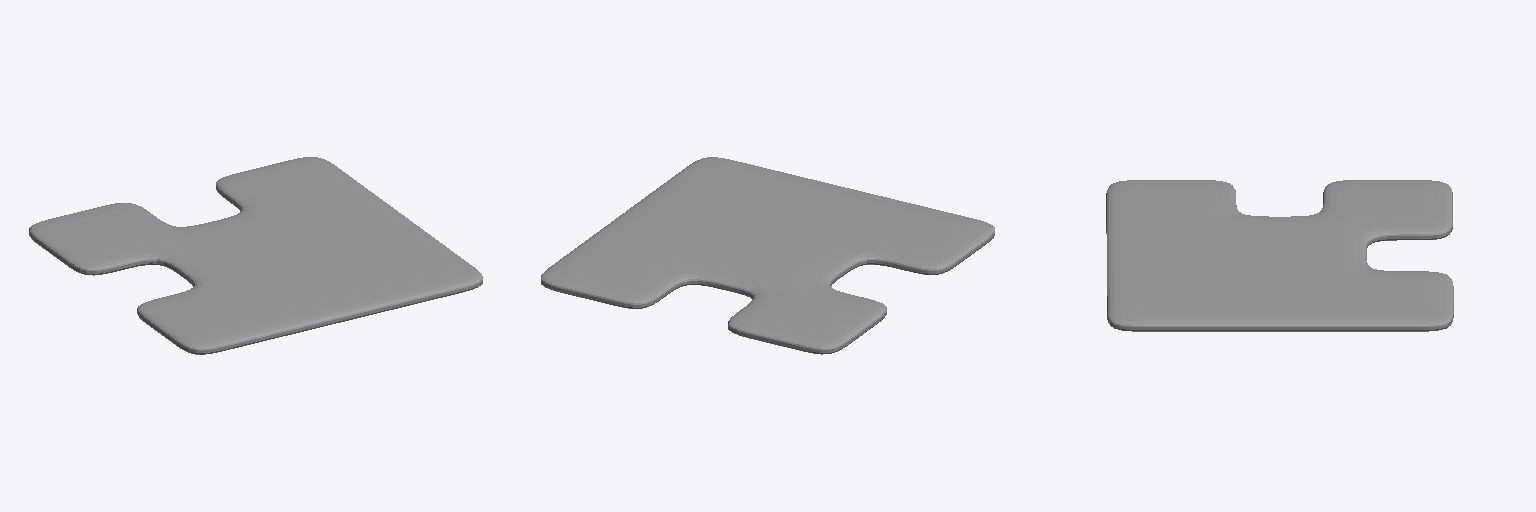
3 views of the same model, side by side, from view 1: azimuth 30°, elevation 25°; view 2: azimuth 150°, elevation 25°; view 3: azimuth 270°, elevation 25° (orthographic).
Visible parts, largest first — view 1: Puzzle.021_Puzzle.021_GoldenEggMaterial.001; view 2: Puzzle.021_Puzzle.021_GoldenEggMaterial.001; view 3: Puzzle.021_Puzzle.021_GoldenEggMaterial.001.
Part boxes in pixels (bbox=[...]): Puzzle.021_Puzzle.021_GoldenEggMaterial.001: bbox=[29, 157, 482, 354]; Puzzle.021_Puzzle.021_GoldenEggMaterial.001: bbox=[541, 157, 994, 354]; Puzzle.021_Puzzle.021_GoldenEggMaterial.001: bbox=[1106, 180, 1453, 331].
Bounding box in the file's own units: 0.25 × 0.0092 × 0.2513.